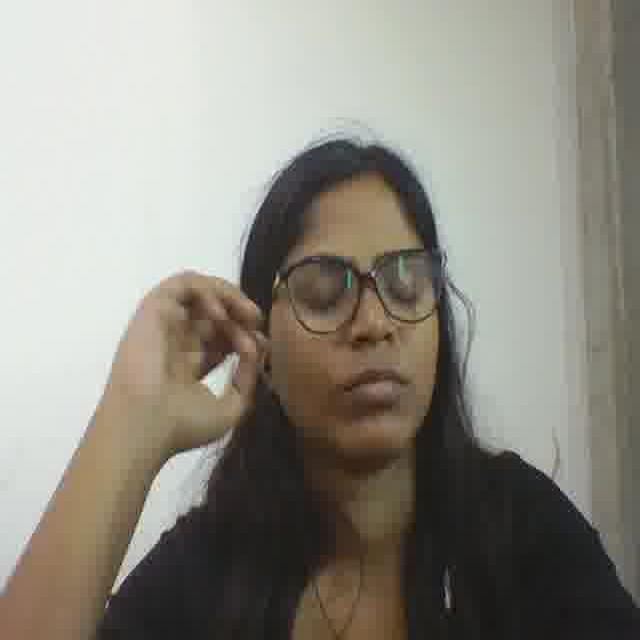Boredom: (270, 182, 434, 450)
